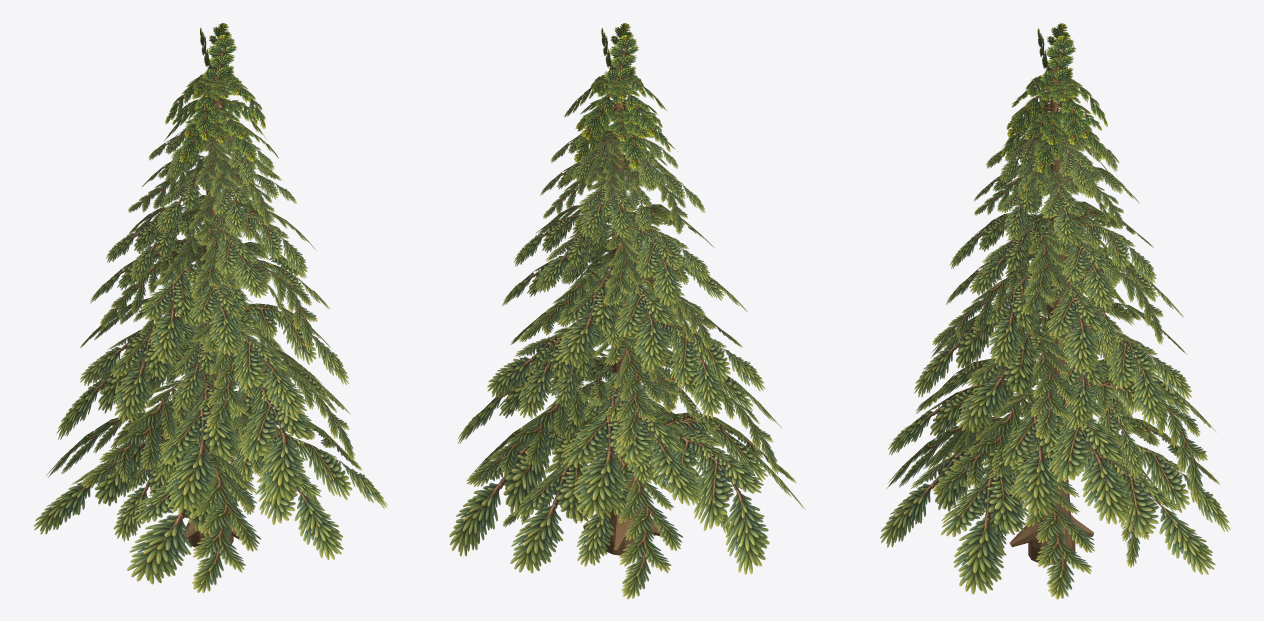
Rendered from fir_soft_v2.glb.
3 views of the same model, side by side, from view 1: azimuth 30°, elevation 25°; view 2: azimuth 150°, elevation 25°; view 3: azimuth 270°, elevation 25° (orthographic). The views are drawn at different scales.
Parts seen in each view (by area): view 1: fir_soft_v2; view 2: fir_soft_v2; view 3: fir_soft_v2.
Boxes of the visible parts, x1,y1,x2,y2 form: fir_soft_v2: [34, 23, 387, 592]; fir_soft_v2: [449, 23, 805, 599]; fir_soft_v2: [880, 23, 1230, 599].
Size of the model in its own units: 3.89 by 5.74 by 3.92.
Materials: 4 (4 with a texture image).
